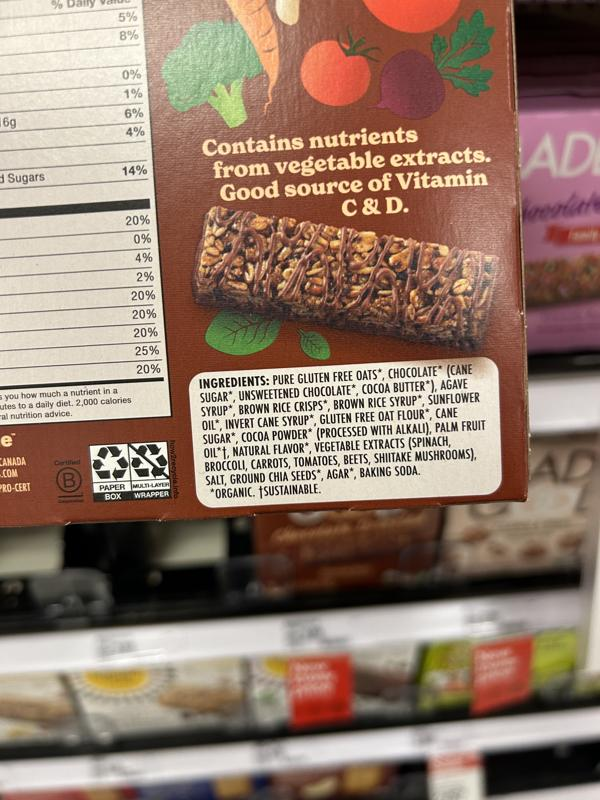ingredients: (195, 362, 490, 500)
